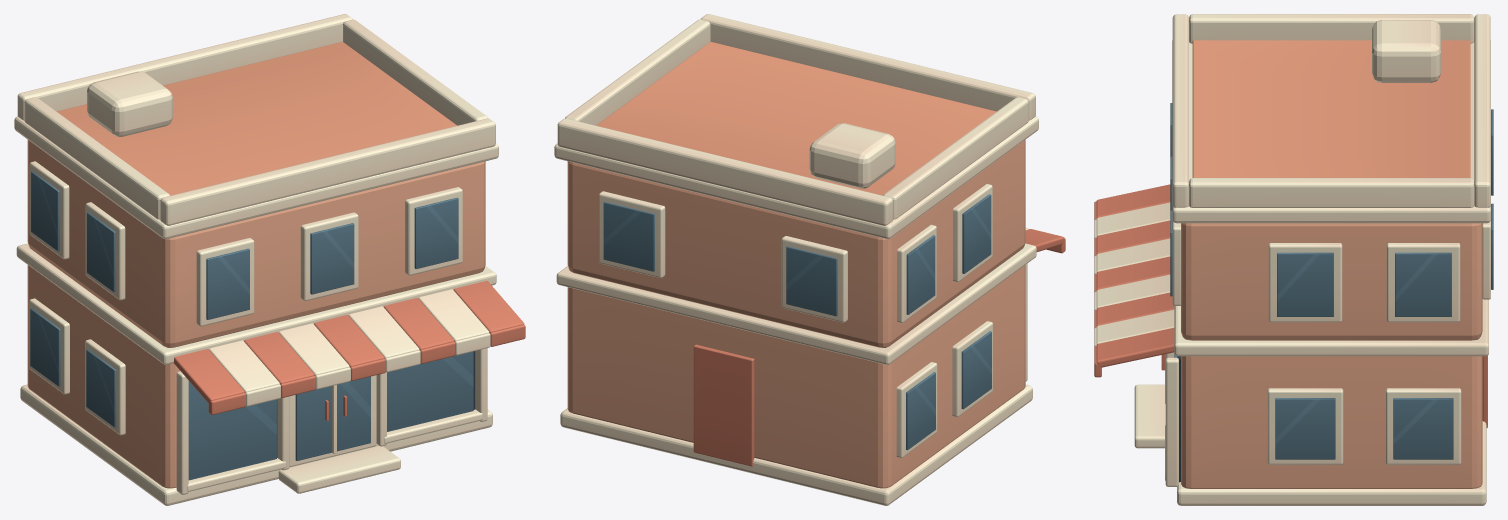
Rendered from 03A-market-blender.glb.
3 views of the same model, side by side, from view 1: azimuth 30°, elevation 25°; view 2: azimuth 150°, elevation 25°; view 3: azimuth 270°, elevation 25° (orthographic). The views are drawn at different scales.
Visible parts, largest first — view 1: 03A Soft Blocks; view 2: 03A Soft Blocks; view 3: 03A Soft Blocks.
Boxes of the visible parts, x1,y1,x2,y2 form: 03A Soft Blocks: (14, 14, 525, 505); 03A Soft Blocks: (554, 14, 1065, 505); 03A Soft Blocks: (1094, 14, 1493, 505).
Size of the model in its own units: 6.28 by 5.77 by 6.09.
Materials: 6 (6 with a texture image).
